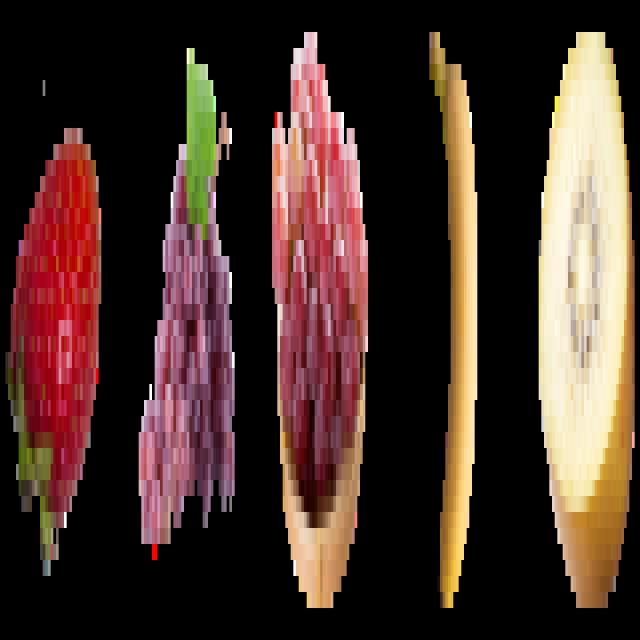bananas: (425, 19, 480, 619)
grape: (268, 19, 372, 619), (136, 42, 240, 570)
kiwifruit: (536, 16, 636, 617)
strawberry: (6, 122, 108, 587)
